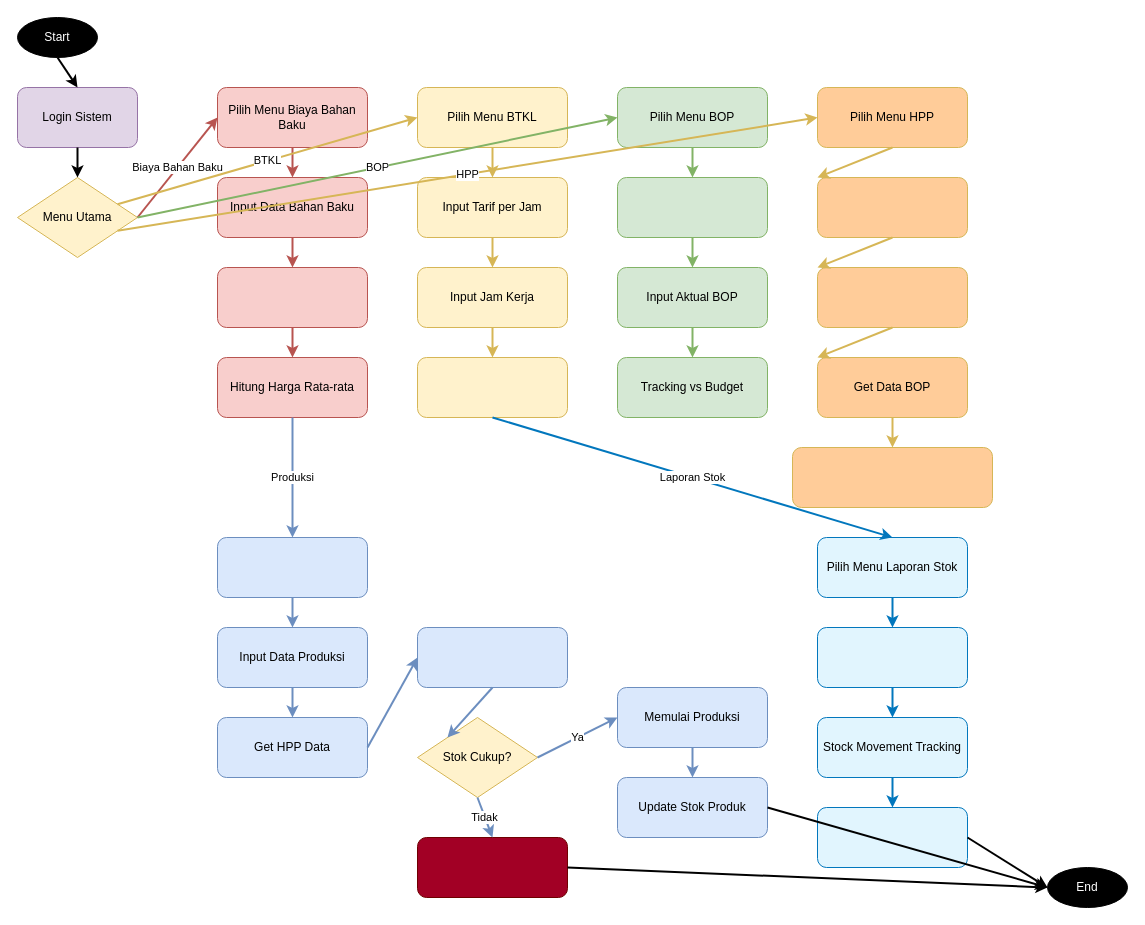
The diagram is 1145 pixels wide and 925 high, and some of its shapes have lost their labels. Each missing label, with the centre of its shape:
"Calculate HPP = BBB + BTKL + BOP" goes at [892,477].
"Error: Stok Tidak Cukup" goes at [492,867].
"Generate Reports" goes at [892,837].
"Get Data Biaya Bahan" goes at [892,207].
"Get Data BTKL" goes at [892,297].
"Input Budget BOP" goes at [692,207].
"Kalkulasi Biaya BTKL" goes at [492,387].
"Konversi Satuan" goes at [292,297].
"Pilih Menu Produksi" goes at [292,567].
"Real-time Inventory Status" goes at [892,657].
"Validasi Stok Bahan" goes at [492,657].
